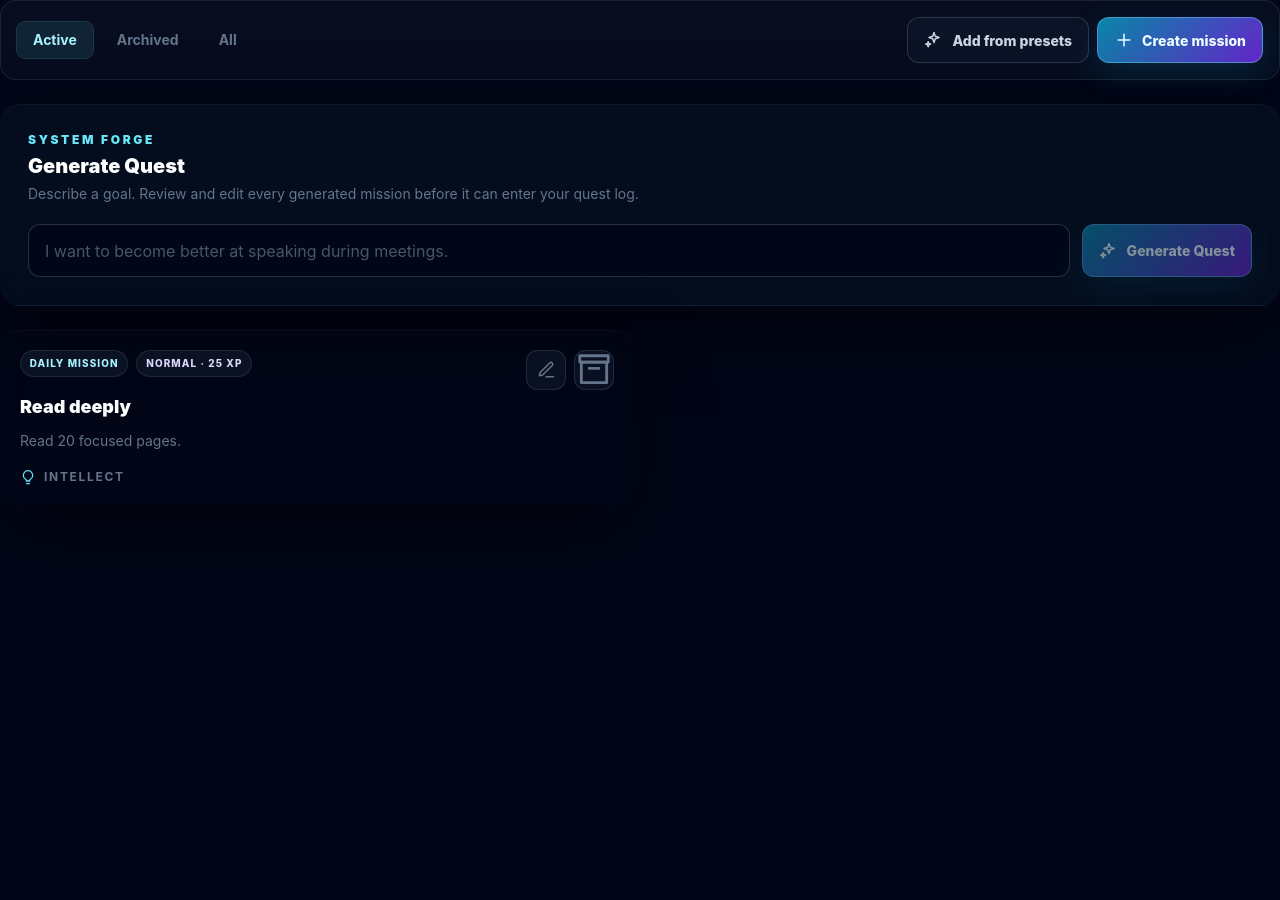
Test: Level Up quest log › disables presets that were already added, including archived missions
Expected: the heading "Read deeply" is shown, [20,396,131,417]
Click the button "Add from presets": (998, 40) [907,17,1089,63]
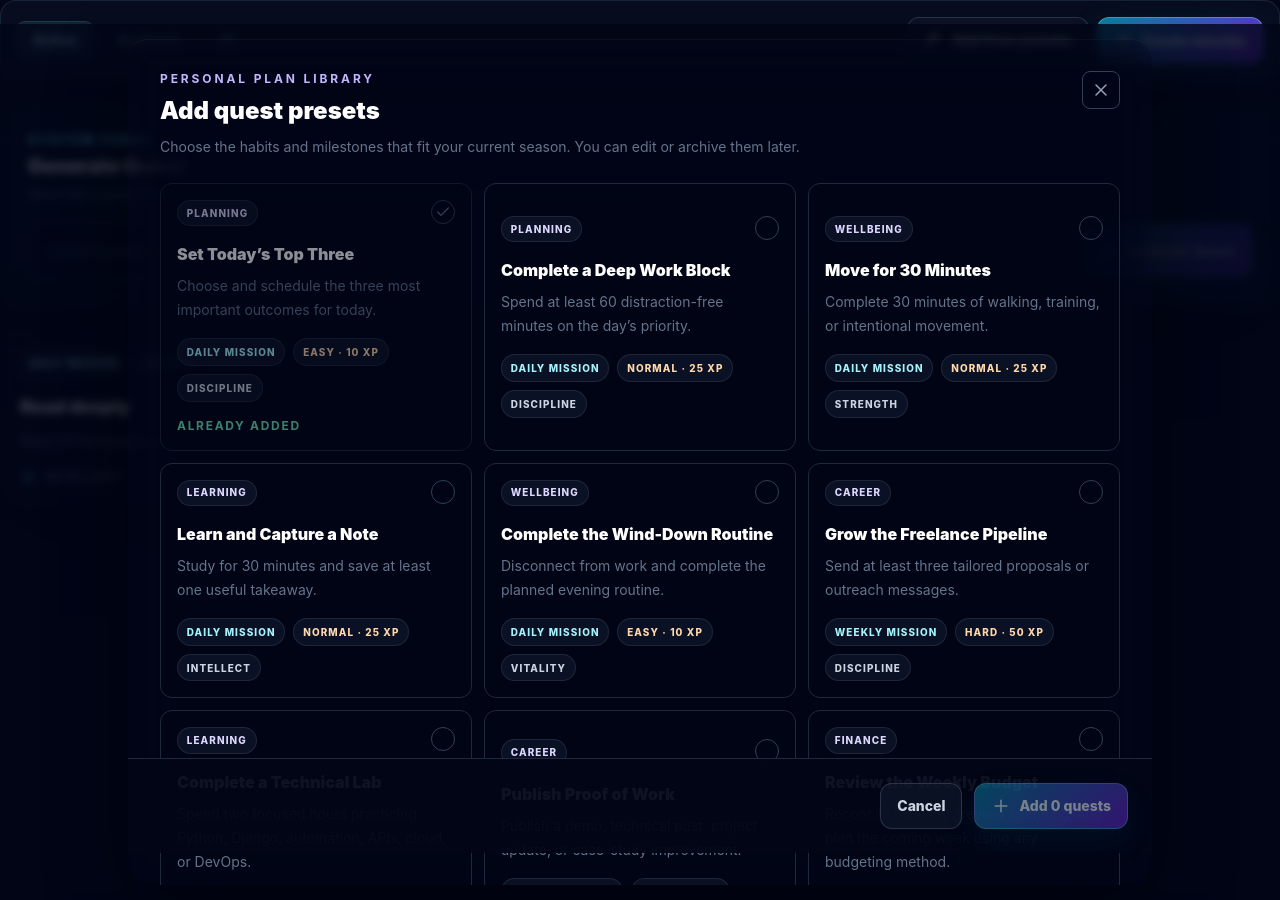
Expected: the button with aria-label "Set Today’s Top Three already added" is disabled, [160,183,472,451]
